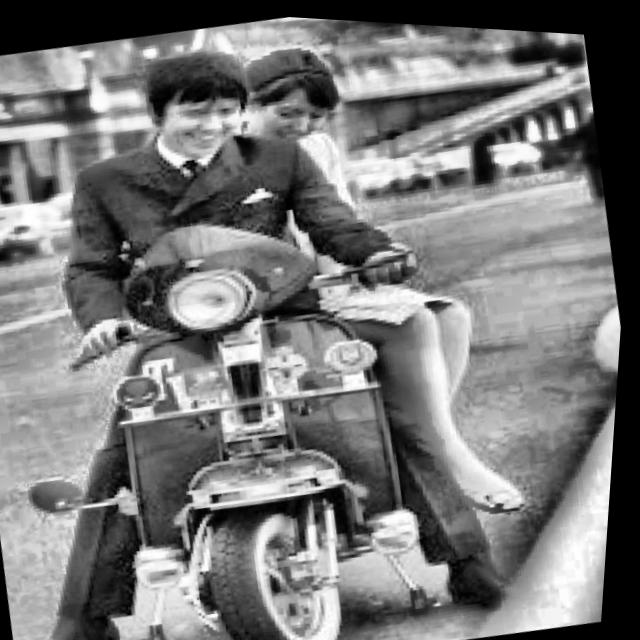motorcycle: (24, 167, 505, 640)
